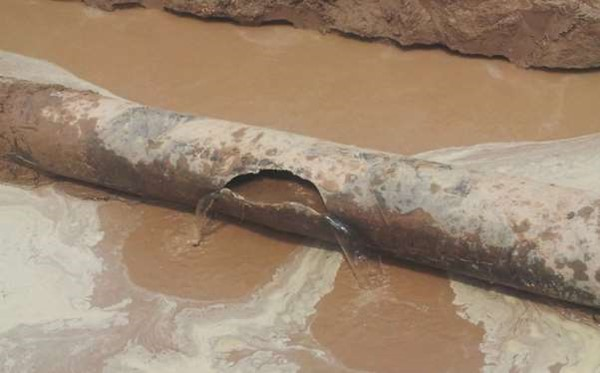rupture: (206, 166, 345, 229)
